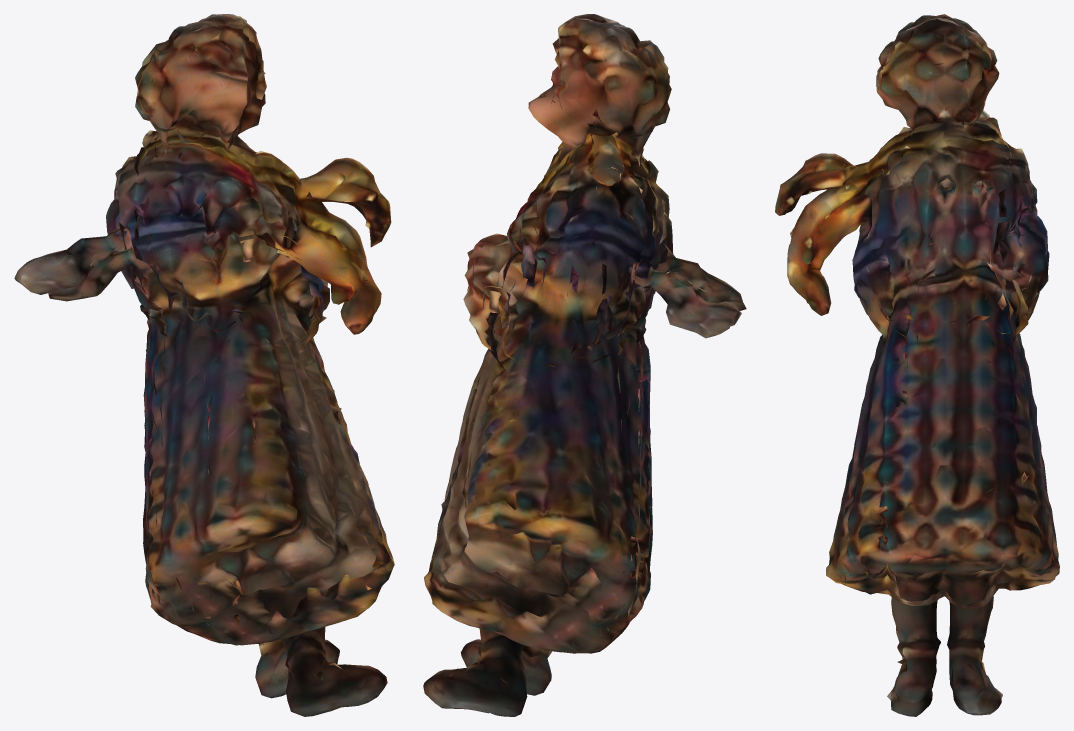
3 renders of one model, left to right at view 1: azimuth 30°, elevation 25°; view 2: azimuth 150°, elevation 25°; view 3: azimuth 270°, elevation 25°, orthographic. The views are drawn at different scales.
Visible parts, largest first — view 1: geometry_0; view 2: geometry_0; view 3: geometry_0.
Boxes of the visible parts, bbox=[...] form: geometry_0: bbox=[14, 14, 394, 716]; geometry_0: bbox=[423, 14, 746, 716]; geometry_0: bbox=[775, 14, 1059, 716].
Size of the model in its own units: 0.8346 by 1.75 by 0.7037.
Materials: 1 (1 with a texture image).
